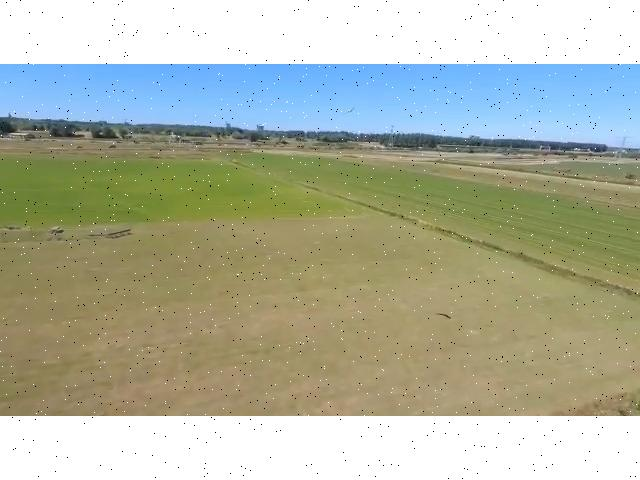Anti-Drone: (334, 98, 360, 125)
